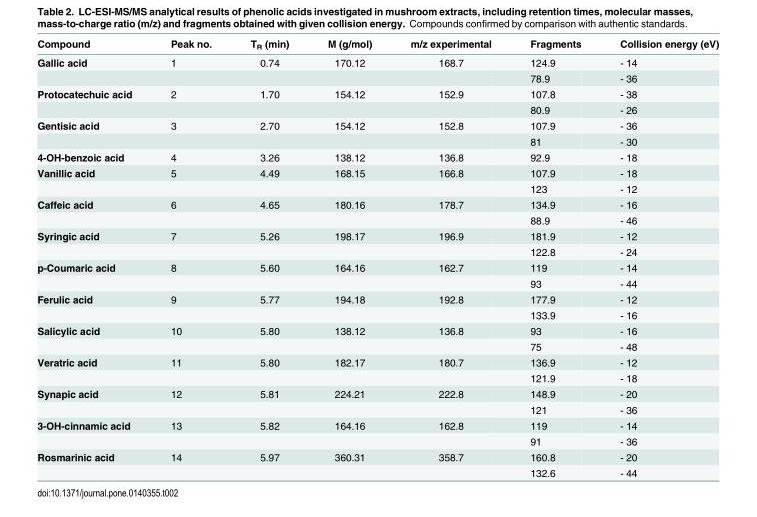table: (36, 37, 718, 478)
table column: (390, 37, 510, 478), (599, 37, 718, 478), (36, 37, 150, 478), (510, 37, 599, 478), (307, 37, 390, 478), (150, 37, 230, 478), (230, 37, 307, 478)
table column header: (36, 37, 718, 52)
table row: (36, 52, 718, 70), (36, 85, 718, 101), (36, 101, 718, 117), (36, 117, 718, 133), (36, 148, 718, 164), (36, 164, 718, 180), (36, 180, 718, 196), (36, 196, 718, 212), (36, 227, 718, 243), (36, 243, 718, 259), (36, 259, 718, 275), (36, 290, 718, 306), (36, 306, 718, 322), (36, 322, 718, 338), (36, 353, 718, 369), (36, 369, 718, 385), (36, 385, 718, 401), (36, 401, 718, 417), (36, 417, 718, 433), (36, 448, 718, 464), (36, 37, 718, 52), (36, 70, 718, 85), (36, 133, 718, 148), (36, 212, 718, 227), (36, 275, 718, 290), (36, 338, 718, 353), (36, 433, 718, 448), (36, 464, 718, 478)
table spanning cell: (36, 52, 150, 85), (36, 85, 150, 117), (36, 164, 150, 196), (36, 227, 150, 259), (36, 290, 150, 322), (36, 353, 150, 385), (36, 385, 150, 417), (36, 117, 150, 148), (36, 196, 150, 227), (36, 259, 150, 290), (36, 322, 150, 353), (36, 417, 150, 448), (36, 448, 150, 478)
